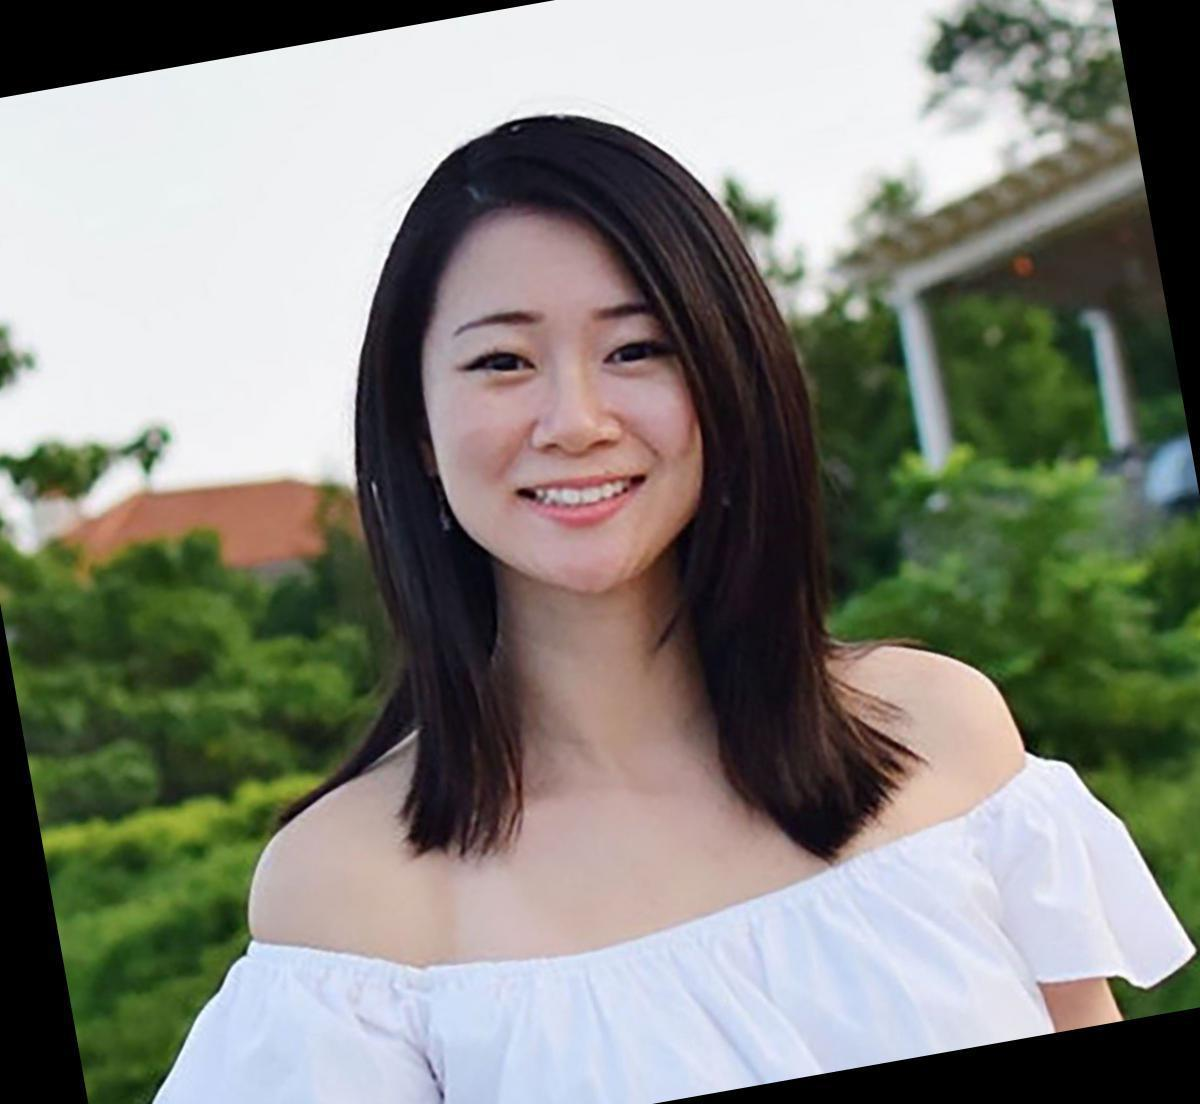Sober: (421, 248, 691, 565)
